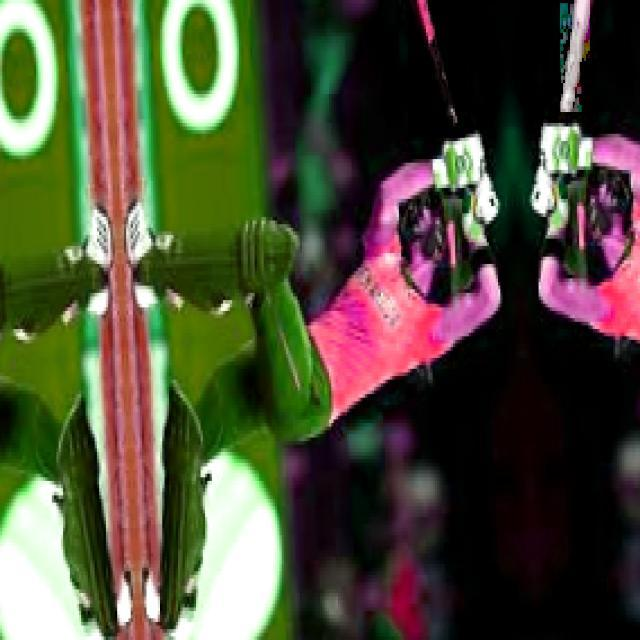bat: (395, 0, 485, 137)
